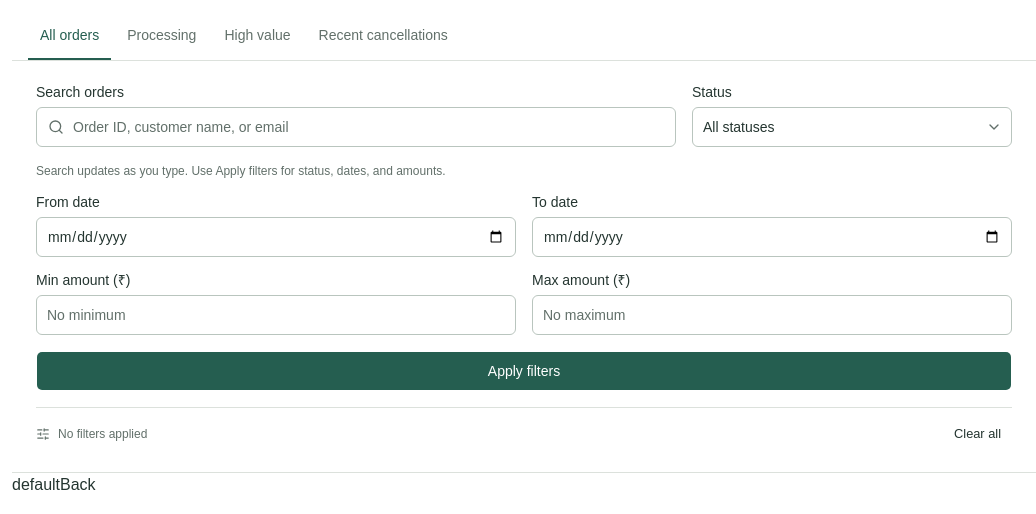
submitting applies immediately without a duplicate history entry
The width and height of the screenshot is (1036, 514).
Type "Rahul" into the search field labelled "Search orders" at (356, 127), box top-left (36, 107), bottom-right (676, 147)
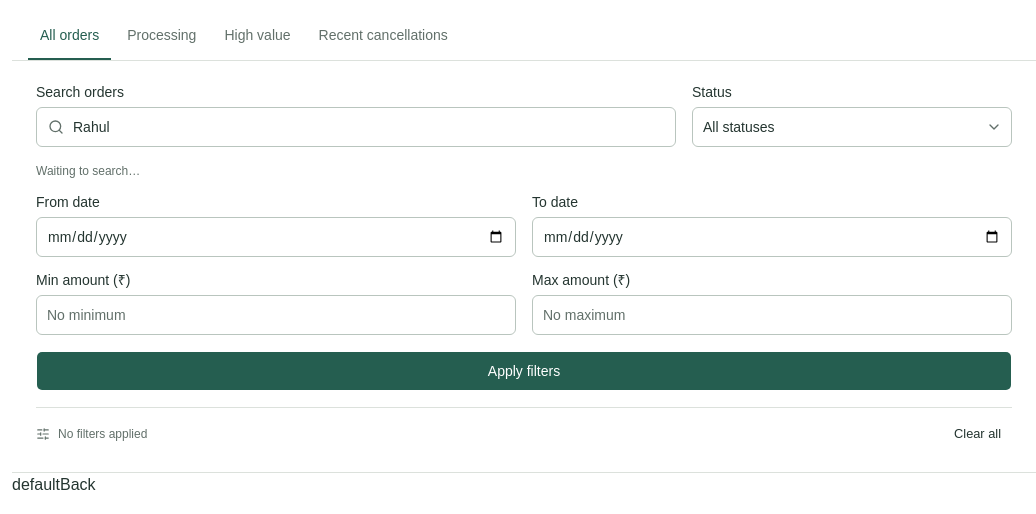
Submit the form named "Order filters"
Wait 350 ms
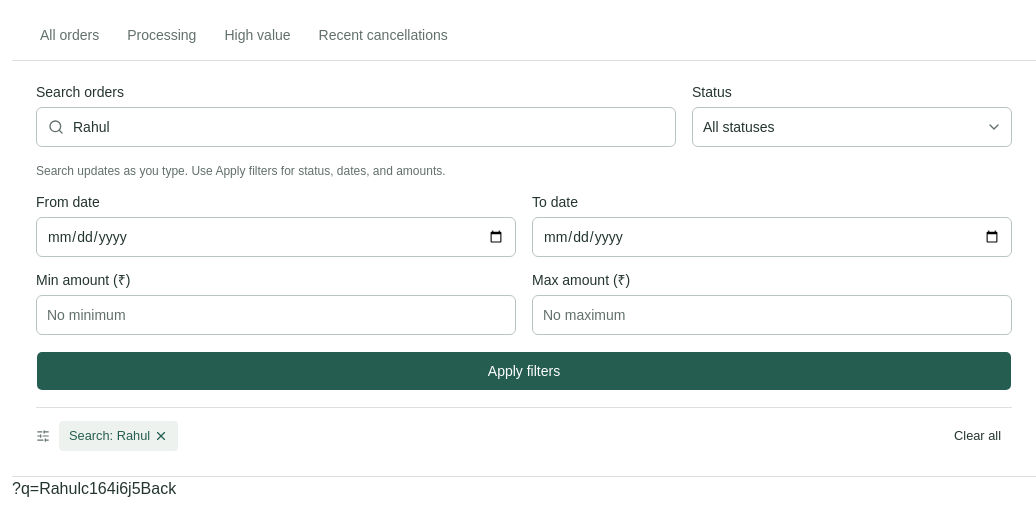
Expected: the text named "URL" shows "q=Rahul", top-left (12, 480), bottom-right (81, 497)
